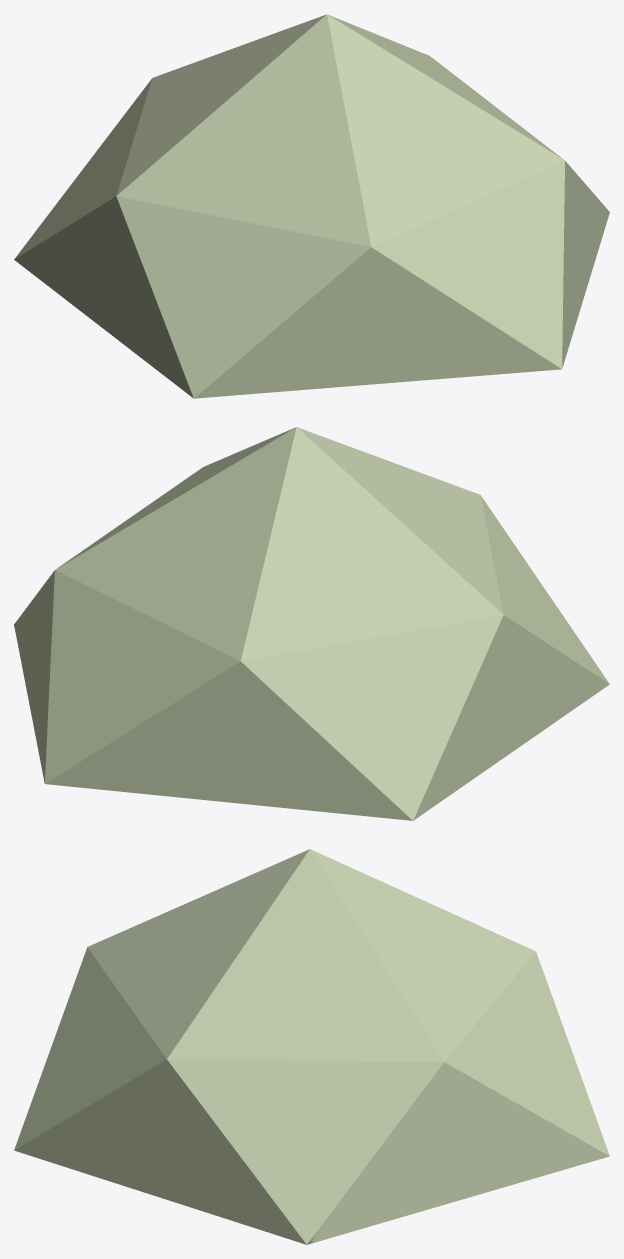
The model's file is Rocks_04.glb.
3 renders of one model, top to bottom at view 1: azimuth 30°, elevation 25°; view 2: azimuth 150°, elevation 25°; view 3: azimuth 270°, elevation 25°, orthographic. The views are drawn at different scales.
Visible parts, largest first — view 1: Rocks_04; view 2: Rocks_04; view 3: Rocks_04.
Boxes of the visible parts, x1,y1,x2,y2 form: Rocks_04: (14, 14, 609, 398); Rocks_04: (14, 427, 609, 820); Rocks_04: (14, 849, 609, 1244).
Bounding box in the file's own units: 2.23 × 1.12 × 2.33.
1 material, 1 textured.
